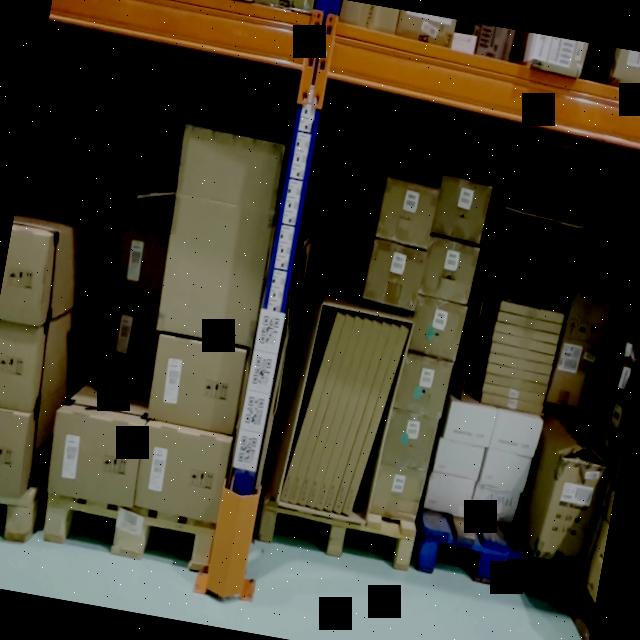box: (157, 127, 283, 344), (146, 339, 246, 433), (48, 412, 144, 506), (133, 426, 228, 519), (536, 456, 607, 566), (362, 241, 426, 309), (376, 180, 438, 249), (430, 176, 491, 243), (419, 237, 479, 304), (393, 354, 452, 416), (408, 296, 466, 358), (380, 411, 439, 471), (369, 466, 424, 518), (434, 439, 484, 481), (490, 414, 540, 454), (444, 406, 494, 445), (470, 483, 520, 522), (426, 474, 474, 514), (480, 452, 530, 489)
